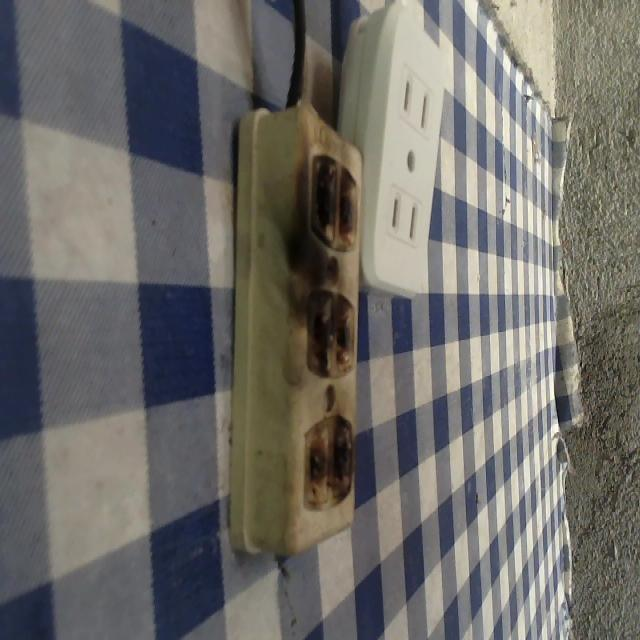-: (300, 285, 362, 387), (304, 151, 359, 256), (300, 411, 357, 506)
